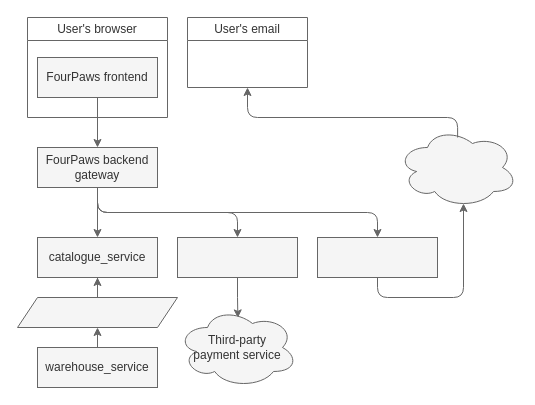
Some shapes in this 535 by 405 pixel diagram are drawn without their labels. The shapes that lost their labels are listed below. From the top down, each one's centre as x and y in pixels, then its label:
At (457,167): "Third-party email service".
At (237,257): "checkout_service".
At (377,257): "notifications_service".
At (97,312): "warehouse_stock_queue".
